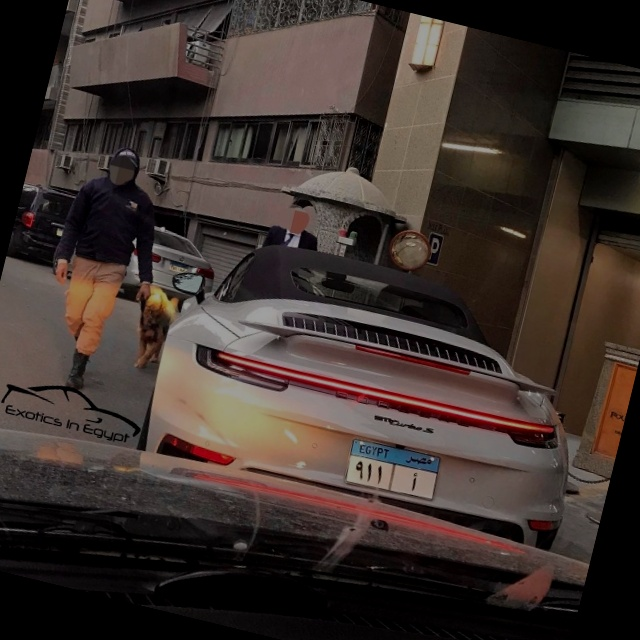License Plate: (340, 434, 445, 506)
